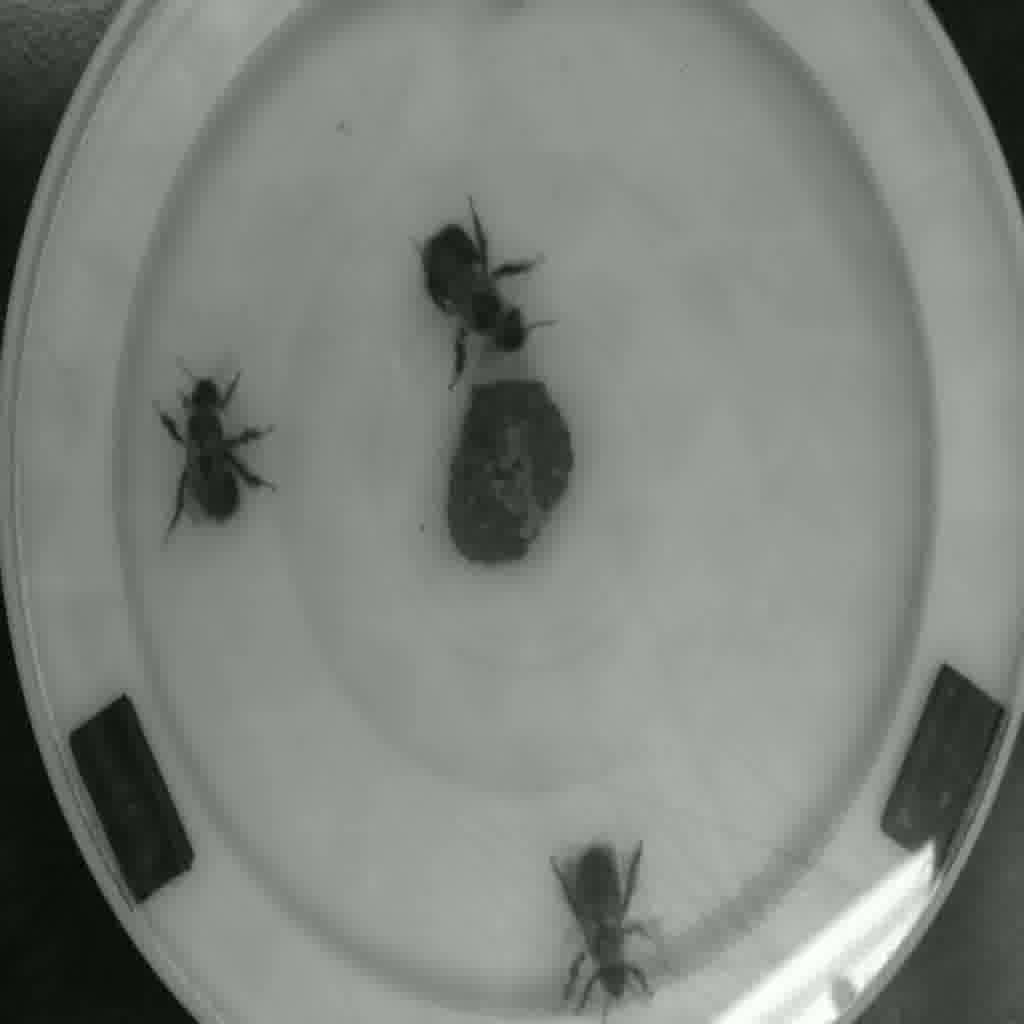bee: (531, 826, 675, 1024), (133, 363, 286, 546), (406, 200, 553, 374)
